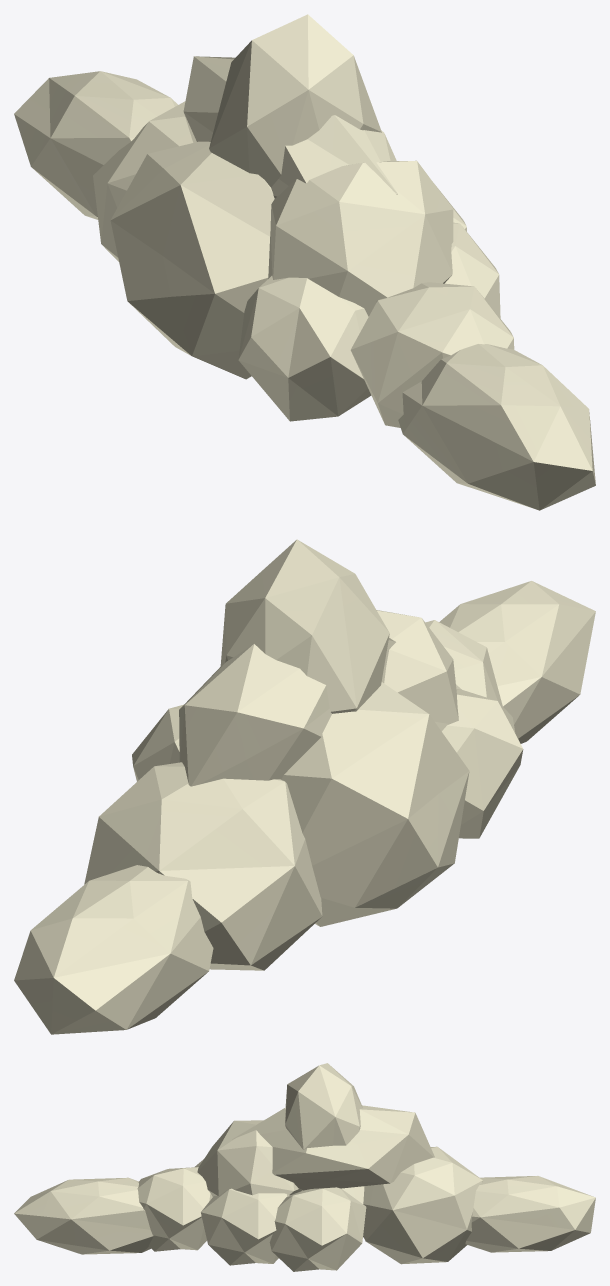
File: cloud_1.FBX
The picture shows the model from 3 angles, top to bottom: view 1: azimuth 30°, elevation 25°; view 2: azimuth 150°, elevation 25°; view 3: azimuth 270°, elevation 25°; orthographic projection. The views are drawn at different scales.
Parts seen in each view (by area): view 1: cloud_1; view 2: cloud_1; view 3: cloud_1.
Part boxes in pixels (bbox=[...]): cloud_1: bbox=[14, 14, 595, 510]; cloud_1: bbox=[14, 539, 595, 1034]; cloud_1: bbox=[14, 1063, 595, 1271].
Bounding box in the file's own units: 414 × 435 × 1180.
